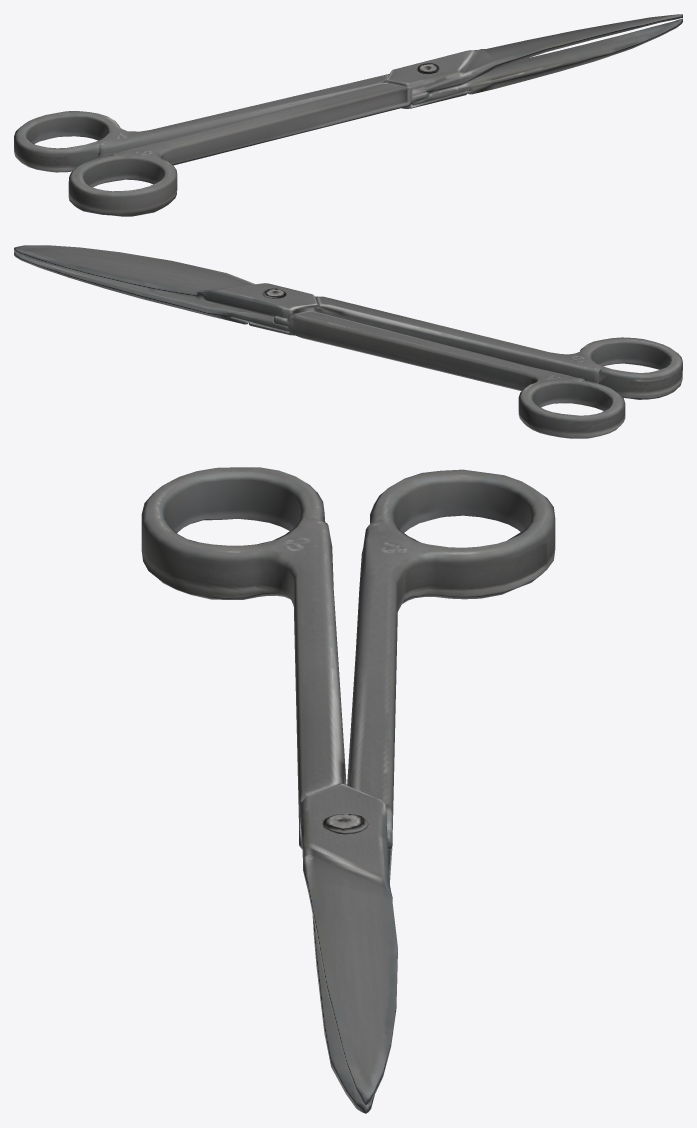
The model's file is scissors.glb.
3 views of the same model, one above another, from view 1: azimuth 30°, elevation 25°; view 2: azimuth 150°, elevation 25°; view 3: azimuth 270°, elevation 25° (orthographic). The views are drawn at different scales.
Visible parts, largest first — view 1: scissors; view 2: scissors; view 3: scissors.
Part boxes in pixels (x1=…): scissors: x1=14, y1=14, x2=682, y2=216; scissors: x1=14, y1=245, x2=682, y2=438; scissors: x1=141, y1=467, x2=555, y2=1113.
Bounding box in the file's own units: 0.21 × 0.0104 × 0.0596.
1 material, 1 textured.
